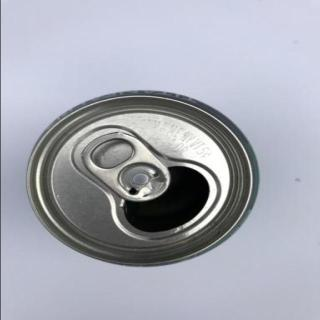Anorganik: (24, 88, 266, 272)
